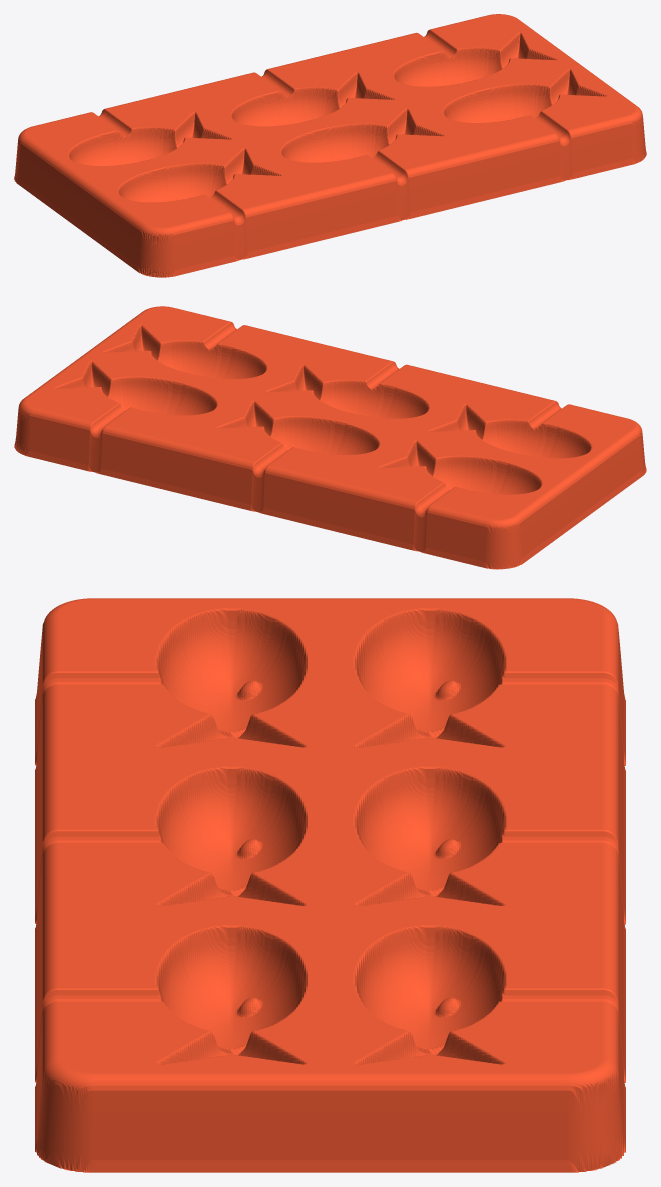
Rendered from mold.glb.
3 views of the same model, one above another, from view 1: azimuth 30°, elevation 25°; view 2: azimuth 150°, elevation 25°; view 3: azimuth 270°, elevation 25° (orthographic). The views are drawn at different scales.
Visible parts, largest first — view 1: geometry_0; view 2: geometry_0; view 3: geometry_0.
Boxes of the visible parts, x1=… form: geometry_0: x1=14, y1=14, x2=646, y2=277; geometry_0: x1=14, y1=306, x2=646, y2=569; geometry_0: x1=35, y1=598, x2=625, y2=1172.
Bounding box in the file's own units: 0.1824 × 0.0155 × 0.0924.
